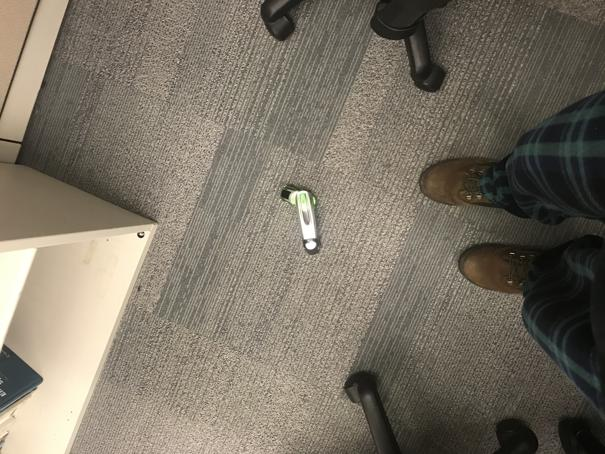Freewheel: (279, 184, 323, 254)
